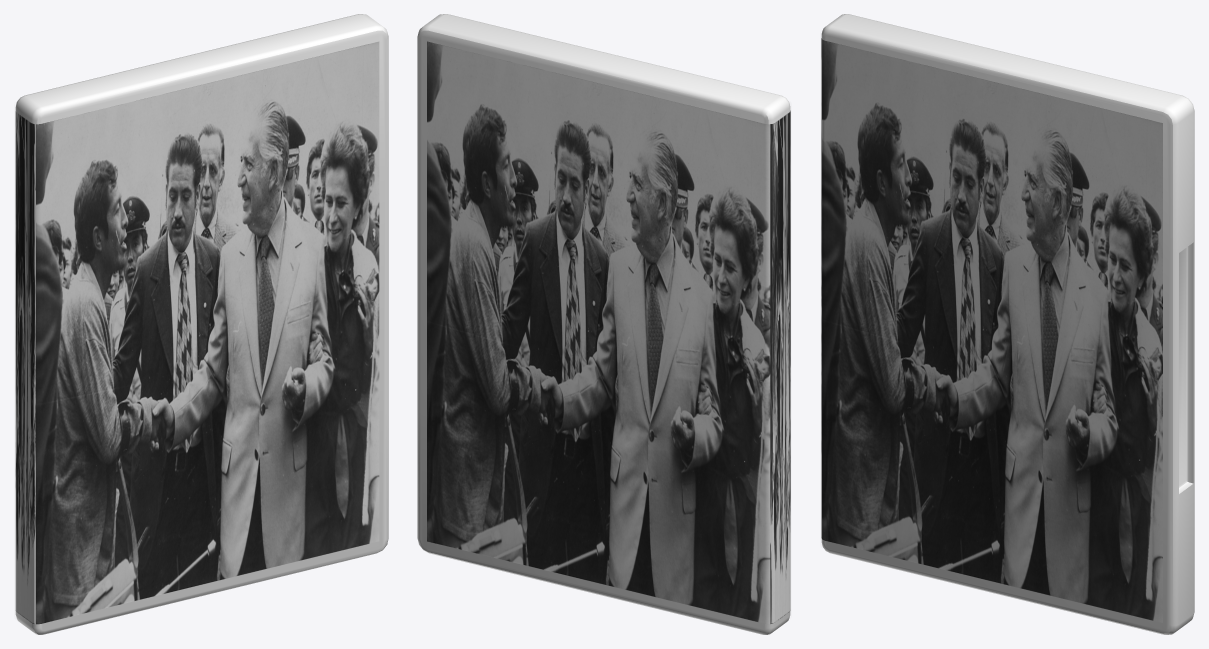
File: wiidefcase.glb
3 views of the same model, side by side, from view 1: azimuth 30°, elevation 25°; view 2: azimuth 150°, elevation 25°; view 3: azimuth 330°, elevation 25° (orthographic).
Parts seen in each view (by area): view 1: Front, Cube, Spine; view 2: Back, Cube, Spine; view 3: Front, Cube.
Part boxes in pixels (x1,y1,x2,y2): Front: (36,41,379,624); Cube: (15,14,388,634); Spine: (15,111,35,624); Back: (427,41,770,624); Cube: (417,14,790,634); Spine: (770,110,790,623); Front: (822,39,1162,622); Cube: (821,14,1194,634).
Size of the model in its own units: 11.41 by 16.11 by 1.28.
5 materials, 3 textured.
